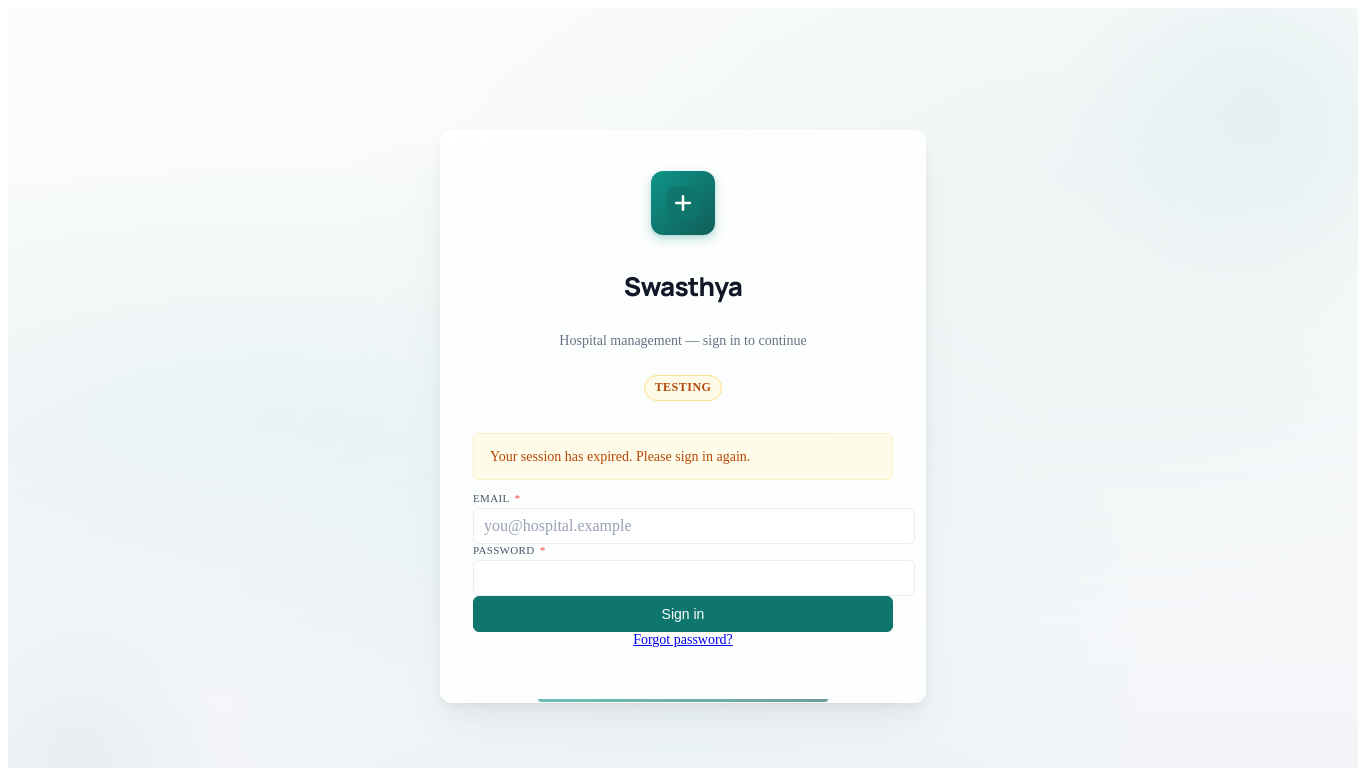
Scenario: Session expiry UX › clears the expired banner after login attempt
Expected: the message "Your session has expired. Please sign in again." is shown, [473, 432, 893, 480]
Type "a@b.test" into the field labelled "Email *". click: (694, 526)
box: [473, 508, 915, 544]
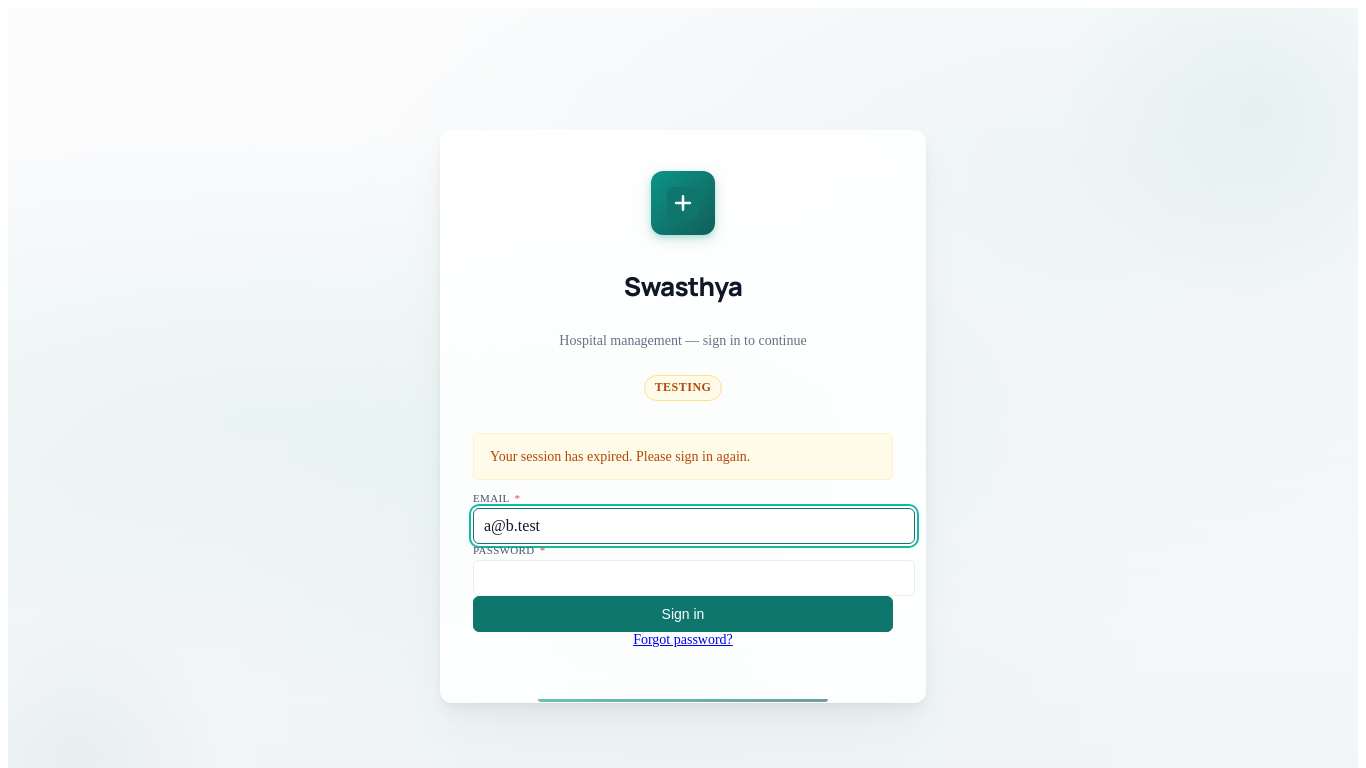
Type "secret" into the password field labelled "Password *". click: (694, 578)
box: [473, 560, 915, 596]
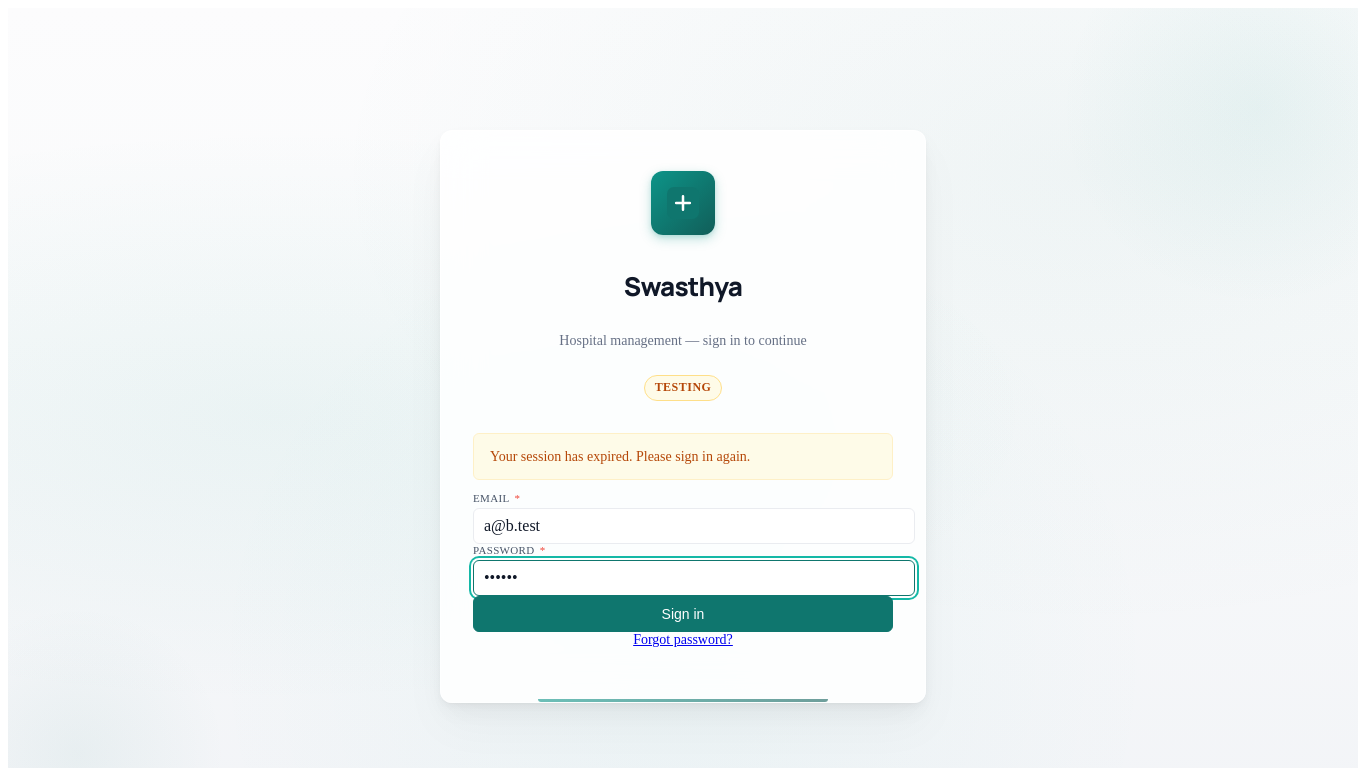
Click the button "Sign in". click: click(683, 614)
box: [473, 596, 893, 632]
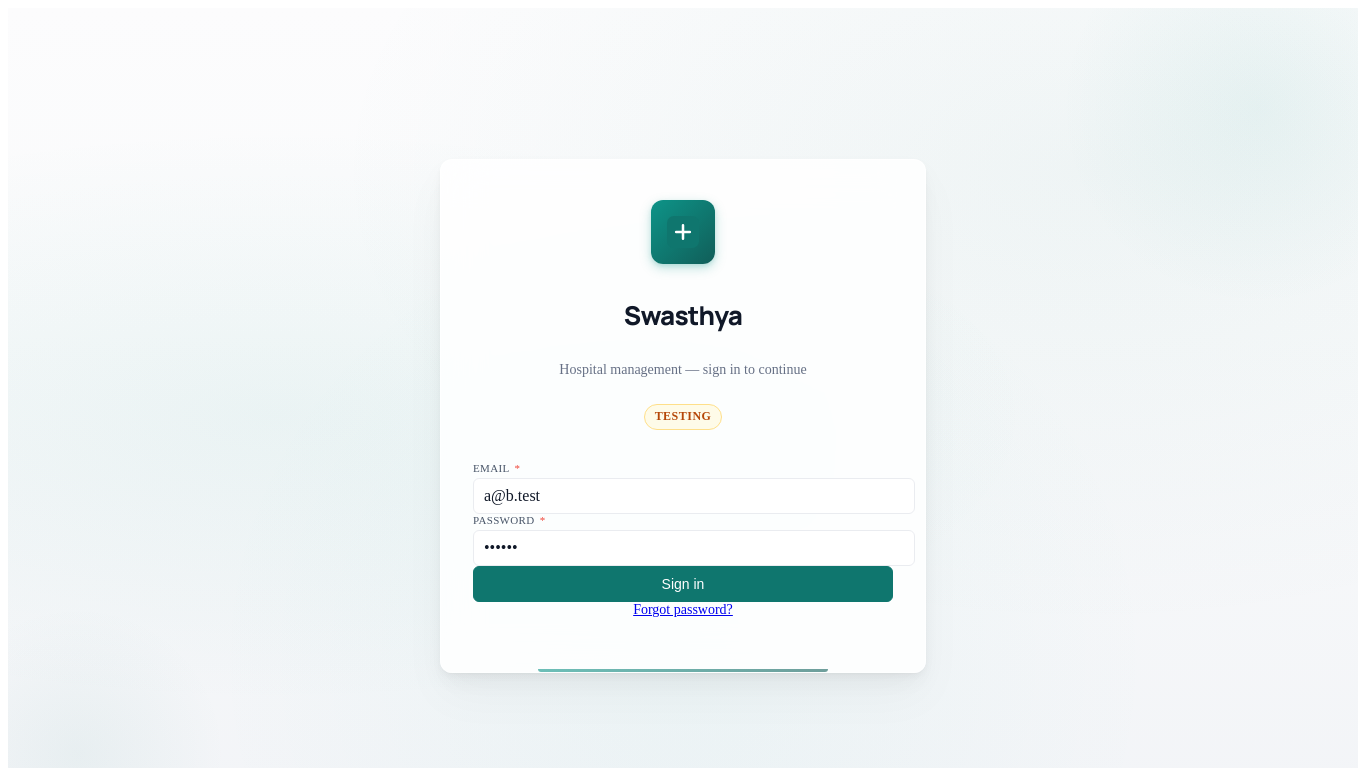
Expected: the message with test id "session-expired-banner" is gone
